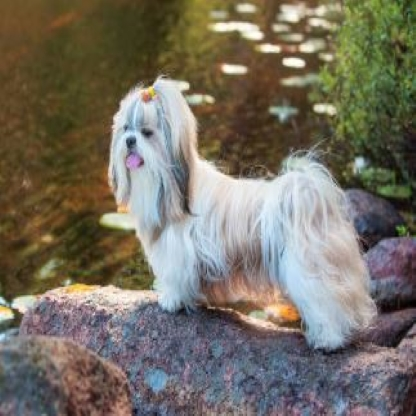maltese: (106, 73, 373, 351)
